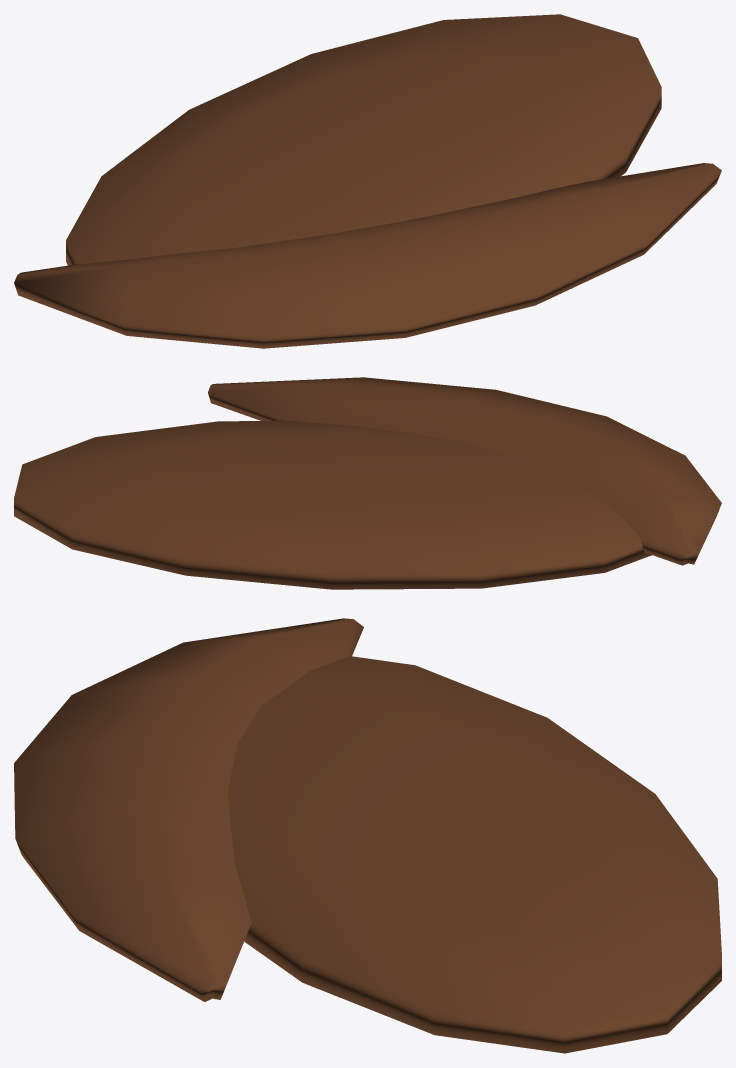
Rendered from Order_Marker_Corn.fbx.
The picture shows the model from 3 angles, top to bottom: view 1: azimuth 30°, elevation 25°; view 2: azimuth 150°, elevation 25°; view 3: azimuth 270°, elevation 25°; orthographic projection. The views are drawn at different scales.
Parts seen in each view (by area): view 1: Body; view 2: Body; view 3: Body.
Part boxes in pixels (<box>): Body: <box>14,14,721,348</box>; Body: <box>14,377,721,589</box>; Body: <box>14,618,721,1053</box>.
Bounding box in the file's own units: 38.37 × 4.22 × 28.
